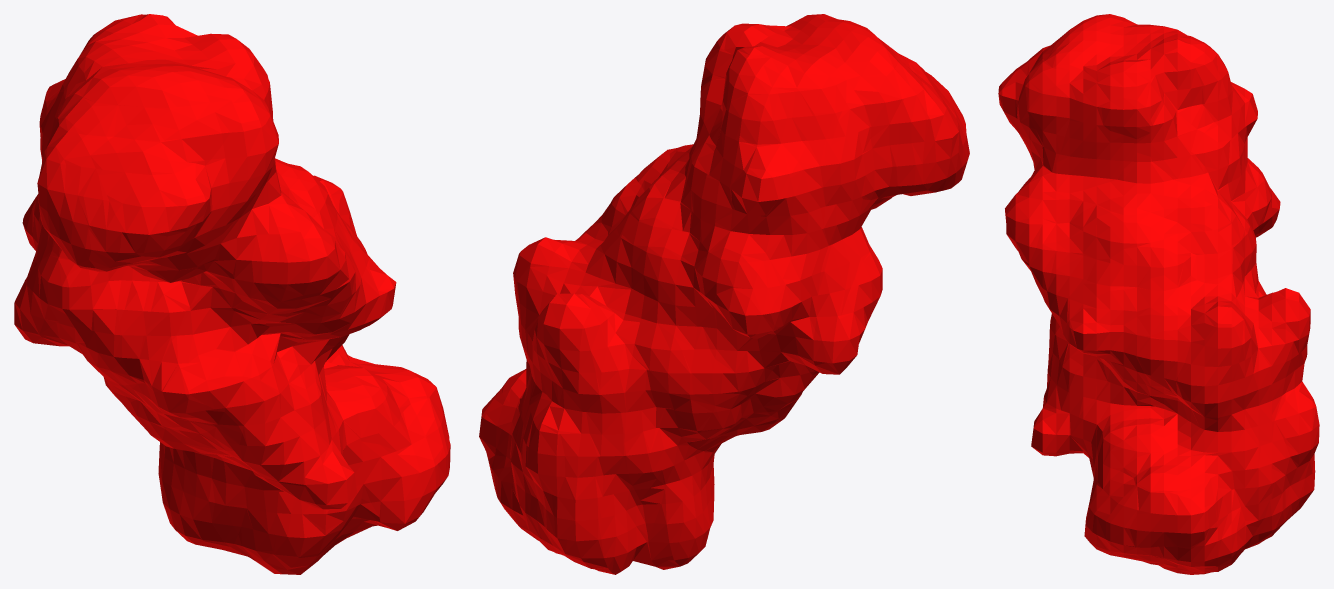
The model's file is yceM_coarse.dae.
3 renders of one model, left to right at view 1: azimuth 30°, elevation 25°; view 2: azimuth 150°, elevation 25°; view 3: azimuth 270°, elevation 25°, orthographic. The views are drawn at different scales.
Parts seen in each view (by area): view 1: yceM; view 2: yceM; view 3: yceM.
Part boxes in pixels (left/top/right/bottom): yceM: left=14, top=14, right=450, bottom=574; yceM: left=479, top=14, right=969, bottom=574; yceM: left=998, top=14, right=1319, bottom=574.
Size of the model in its own units: 76.14 by 94.58 by 58.66.
